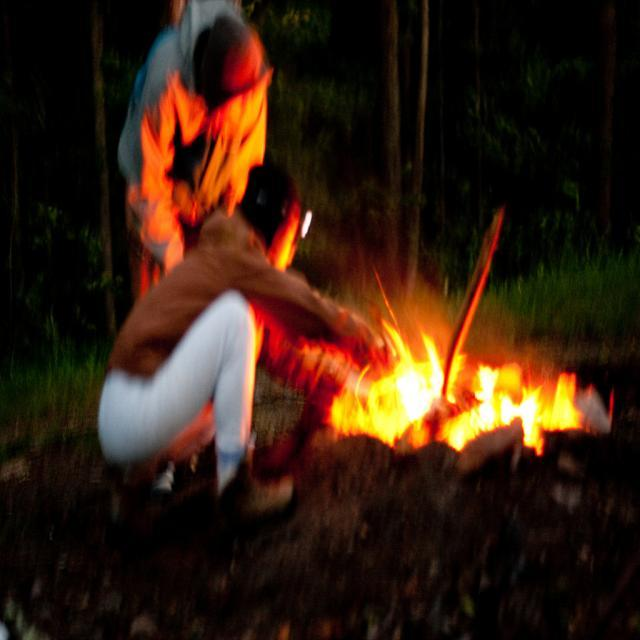Fire: (477, 376, 572, 428), (397, 348, 444, 422)
